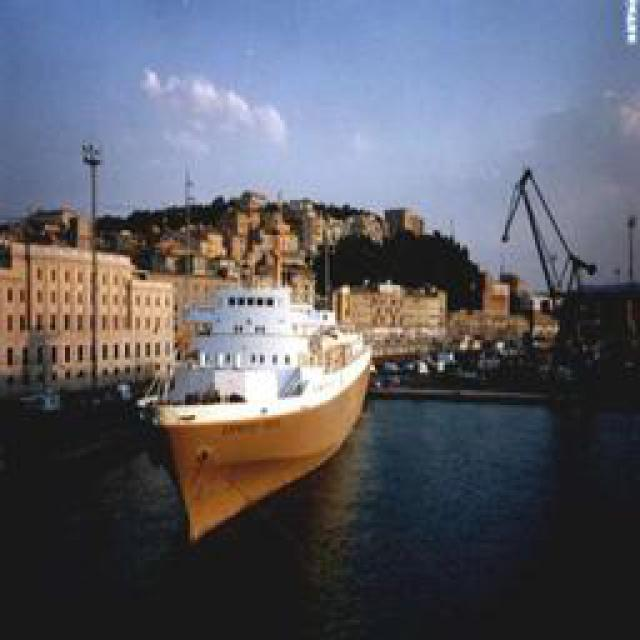Ship: (139, 295, 372, 528)
